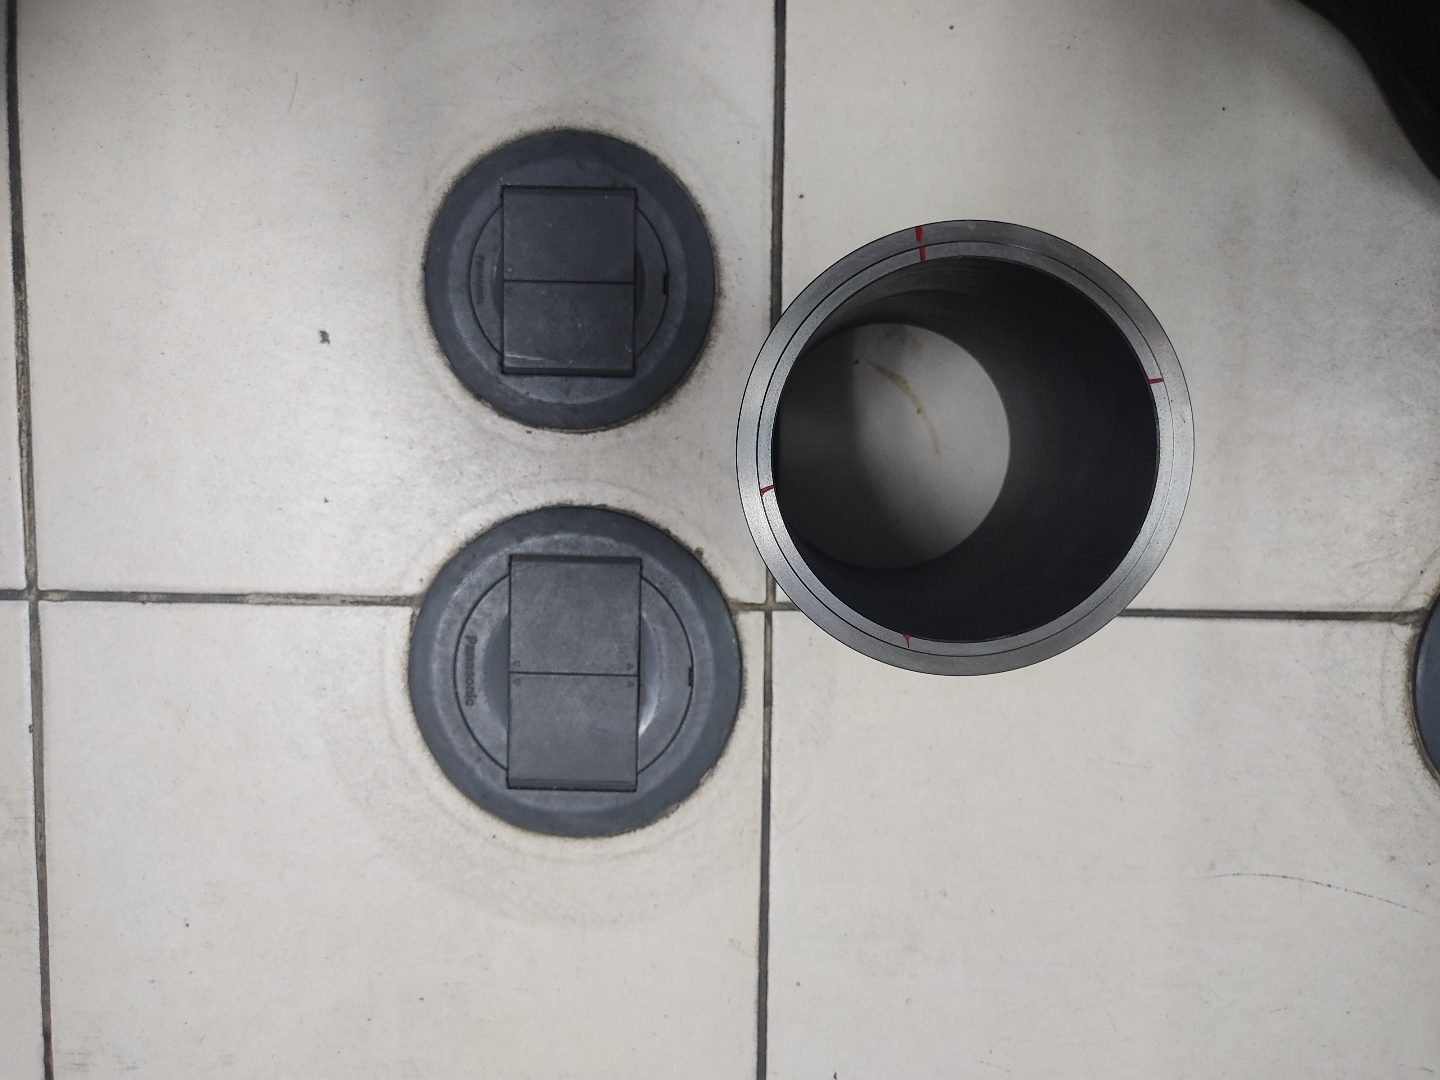cylinder: (729, 213, 1205, 687)
